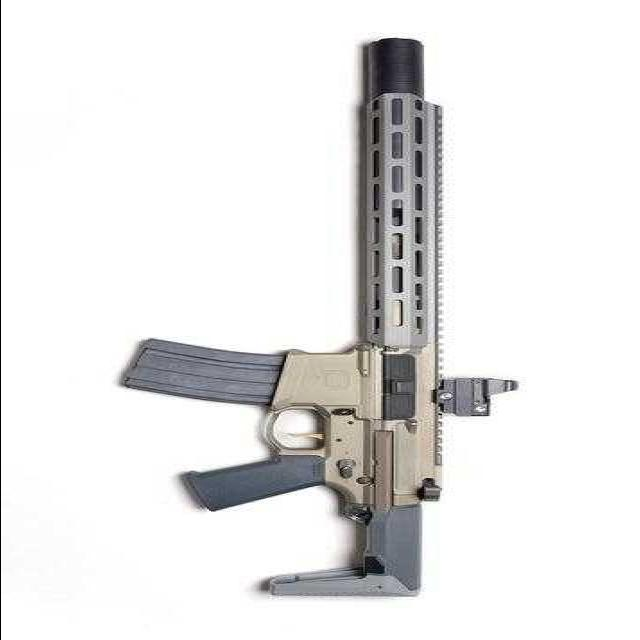heavyweapon: (119, 26, 503, 609)
